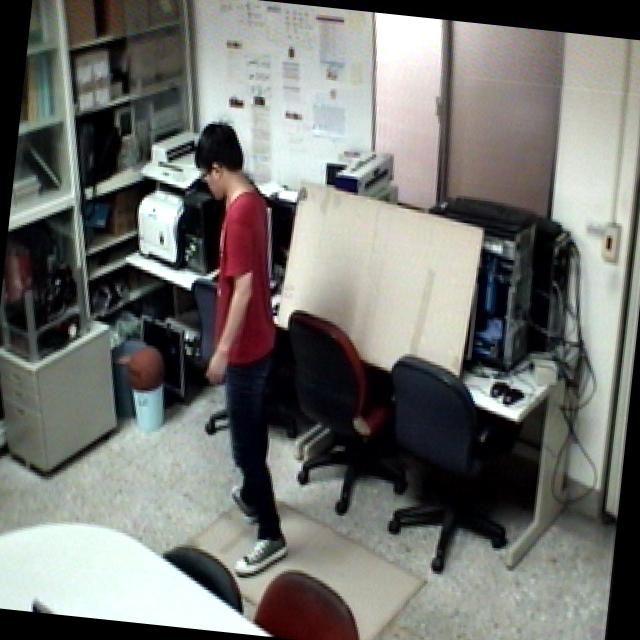stand: (144, 109, 336, 576)
